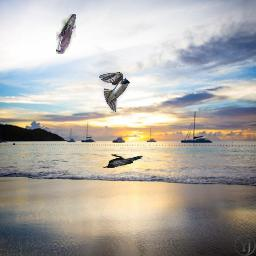Crow: (103, 154, 143, 168)
Cuckoo: (56, 14, 76, 54)
Swallow: (99, 72, 130, 112)
